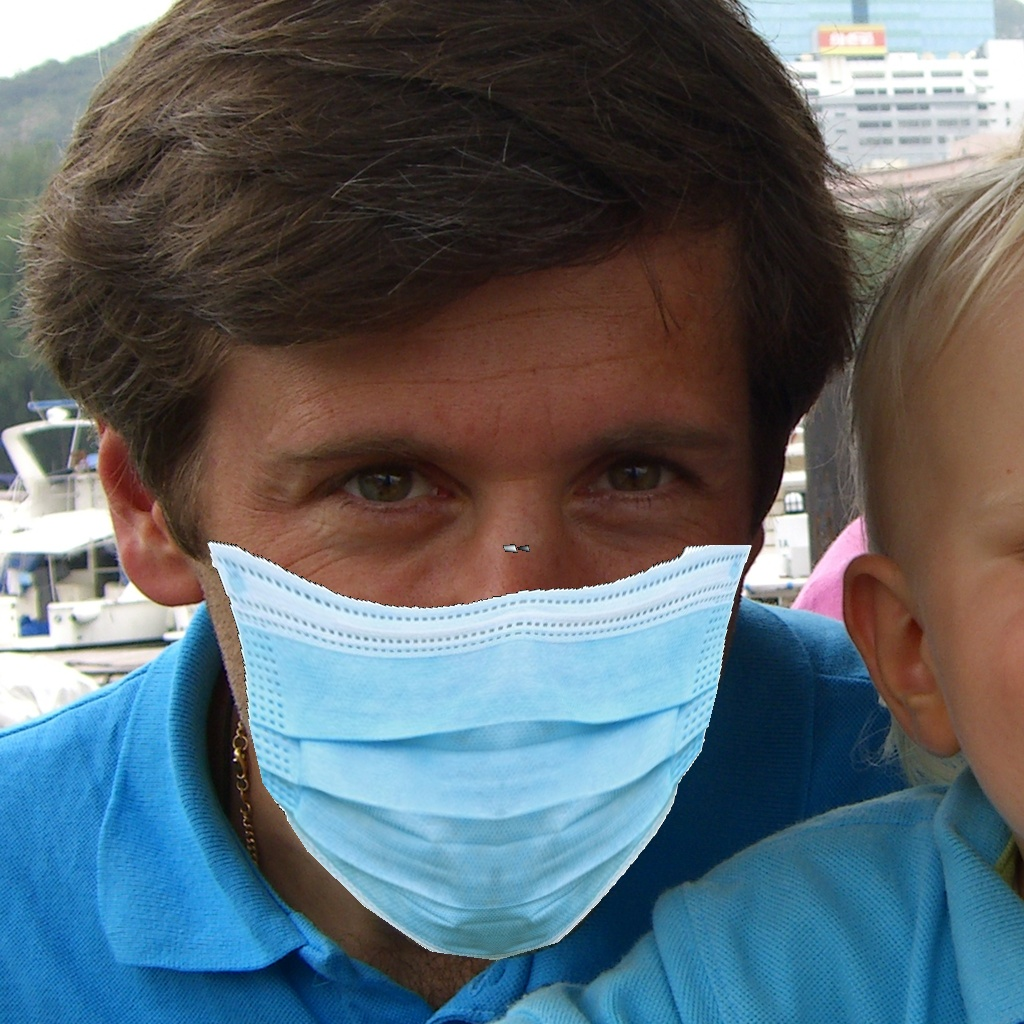with_mask: (251, 399, 740, 958)
